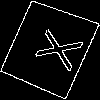X: (24, 23, 84, 73)
